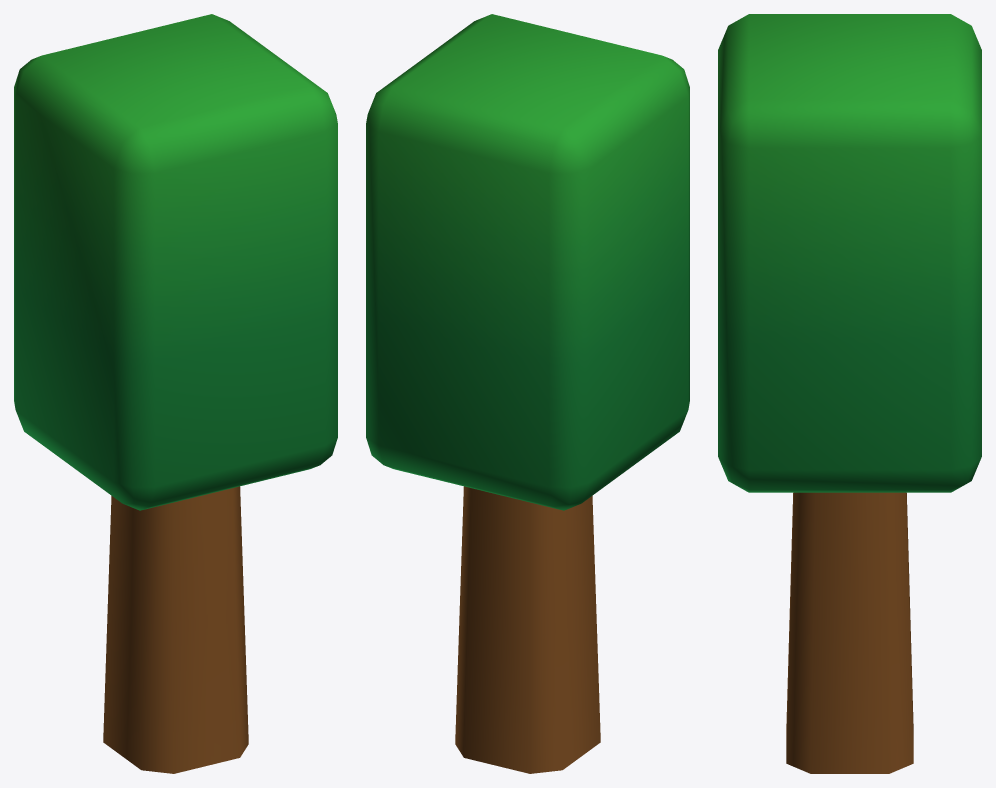
The model's file is Tree_A_3.fbx.
The picture shows the model from 3 angles, left to right: view 1: azimuth 30°, elevation 25°; view 2: azimuth 150°, elevation 25°; view 3: azimuth 270°, elevation 25°; orthographic projection. The views are drawn at different scales.
Parts seen in each view (by area): view 1: Tree_A_3; view 2: Tree_A_3; view 3: Tree_A_3.
Boxes of the visible parts, <box> form: Tree_A_3: <box>14,14,337,773</box>; Tree_A_3: <box>366,14,689,773</box>; Tree_A_3: <box>718,14,981,773</box>.
Size of the model in its own units: 121 by 348 by 121.
